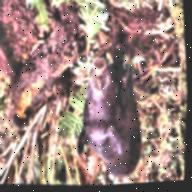boar: (55, 14, 163, 188)
